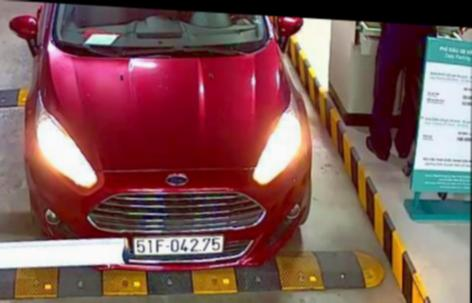License_Plate: (130, 227, 234, 264)
